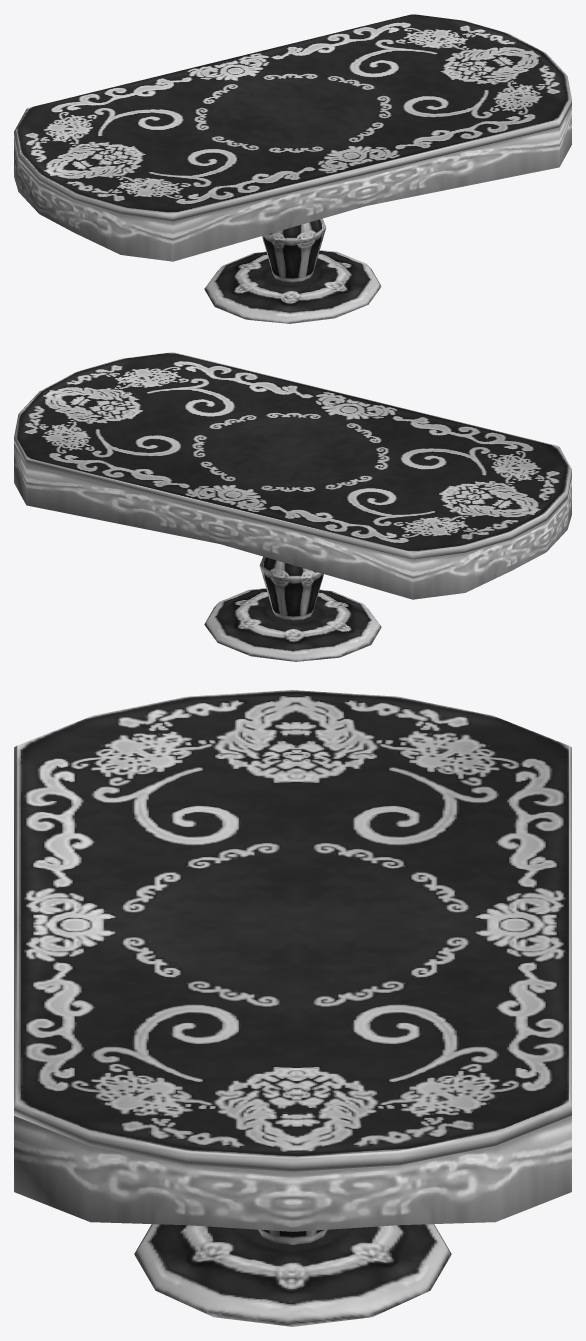
The model's file is KingDiningTable_HD.fbx.
The picture shows the model from 3 angles, top to bottom: view 1: azimuth 30°, elevation 25°; view 2: azimuth 150°, elevation 25°; view 3: azimuth 270°, elevation 25°; orthographic projection. The views are drawn at different scales.
Visible parts, largest first — view 1: KingDiningTable; view 2: KingDiningTable; view 3: KingDiningTable.
Part boxes in pixels (<box>): KingDiningTable: <box>14,14,571,323</box>; KingDiningTable: <box>14,352,571,661</box>; KingDiningTable: <box>14,690,571,1326</box>.
Bounding box in the file's own units: 1.84 × 0.6027 × 0.9222.
